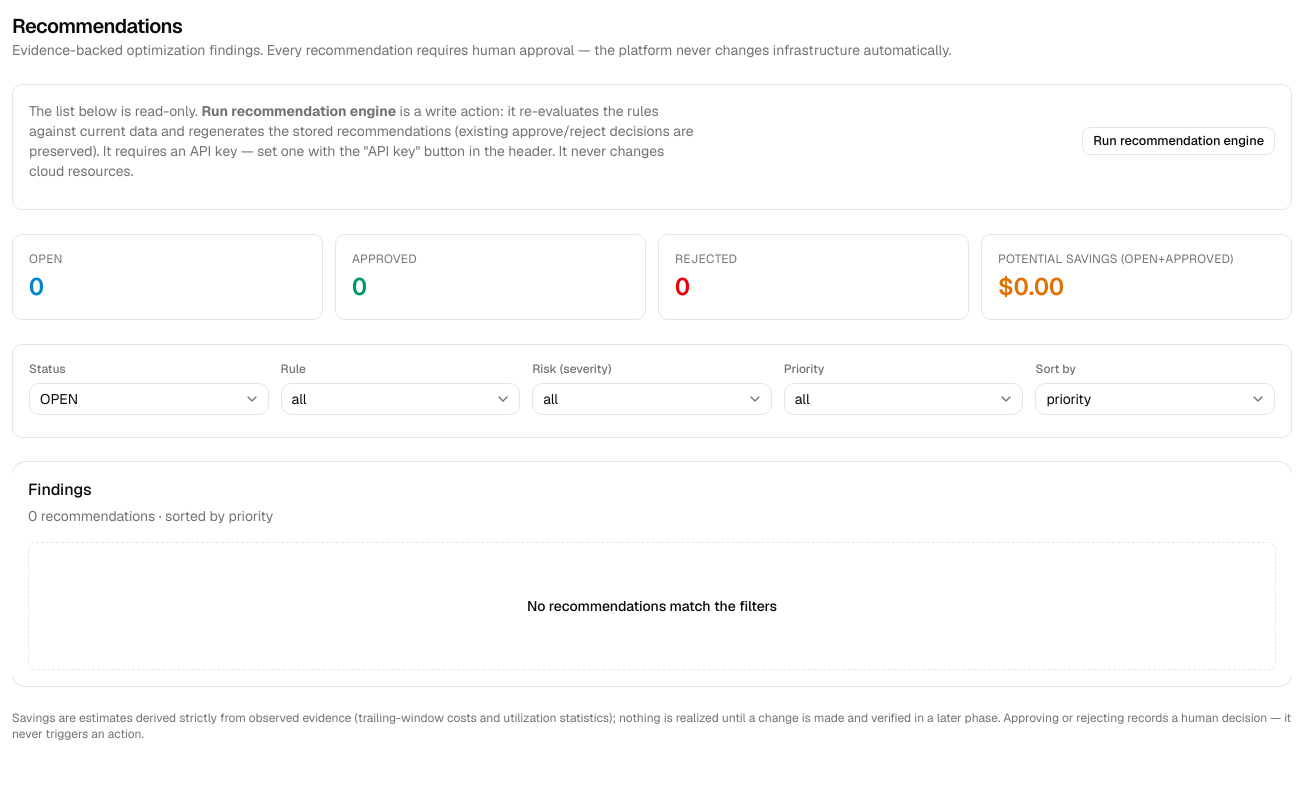
Test: Recommendations page › disables the button while running
expect the text "No recommendations match the filters" is shown: met, box [527, 596, 777, 616]
Click the button "Run recommendation engine": click(1179, 141) [1082, 127, 1275, 155]
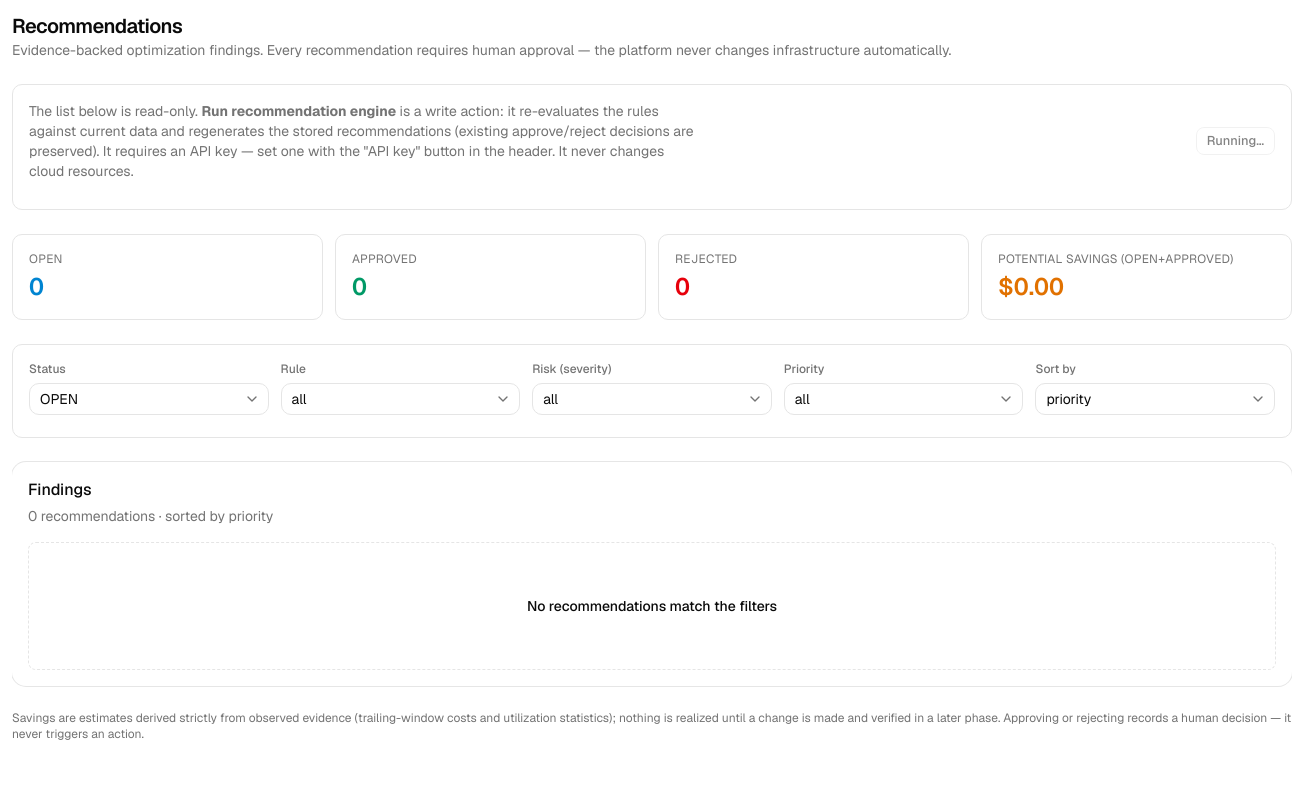
expect the button "Running…" is disabled: met, box [1196, 127, 1275, 155]
